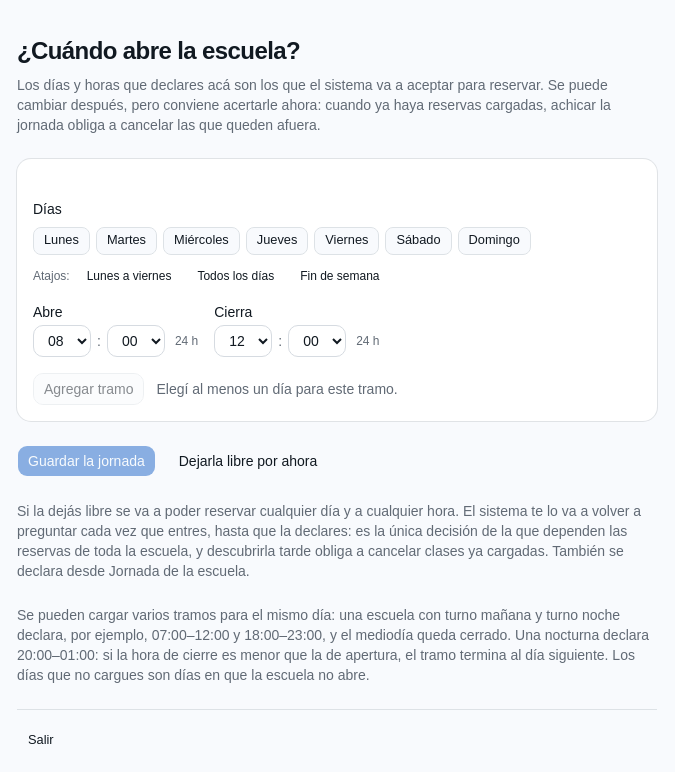
Test: PrimeraJornadaPage › un tramo cargado se puede quitar antes de guardar
The image size is (675, 772).
Click the button "Sábado" at (419, 240), box [386,226,452,254]
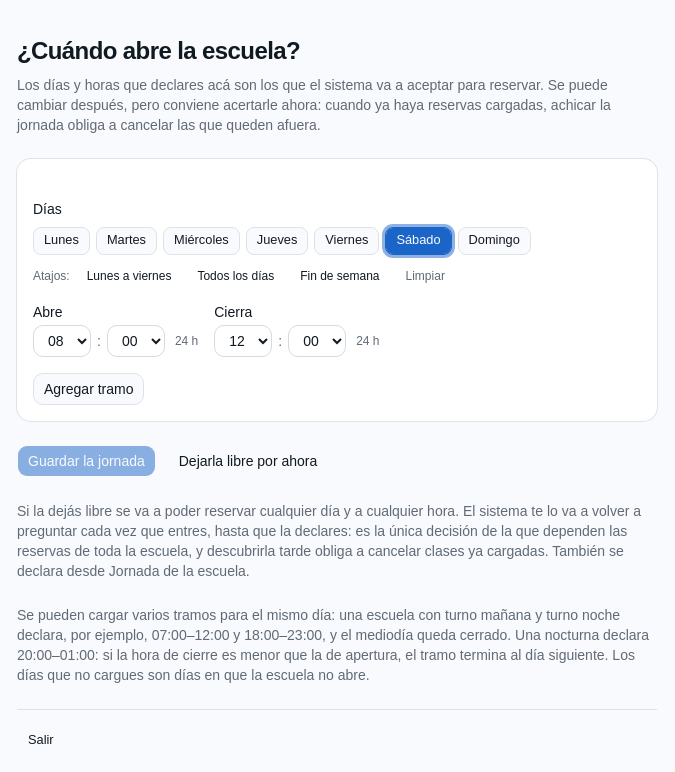
Click the button "Agregar tramo" at (89, 388), box [33,372,144,404]
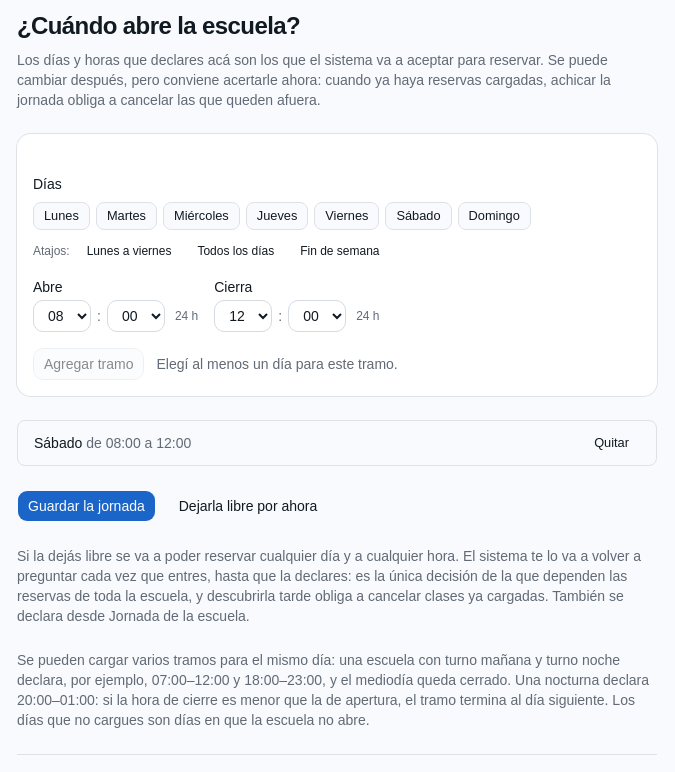
Click the button with aria-label "Quitar Sábado de 08:00 a 12:00" at (612, 443), box [583,429,640,457]
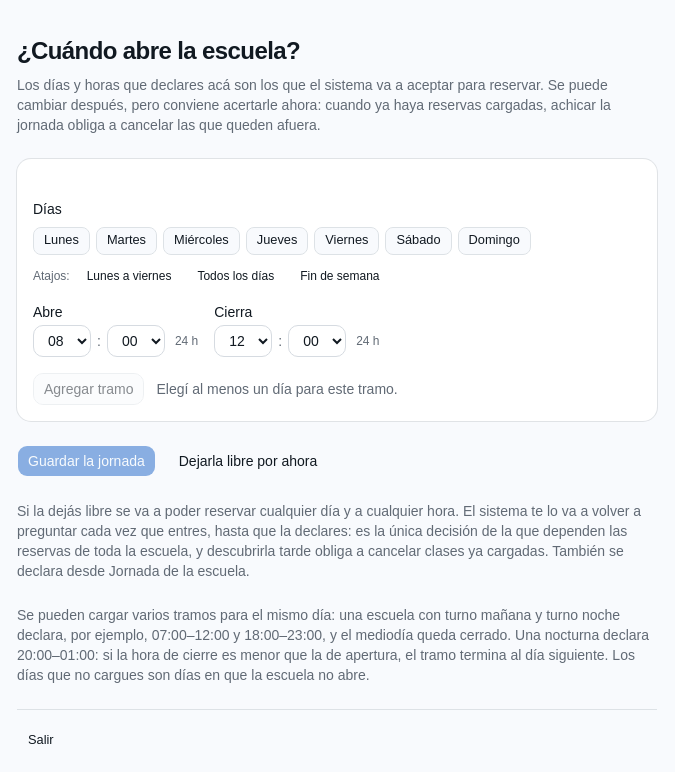
Now the button "Guardar la jornada" is disabled, box [17,444,156,476]
